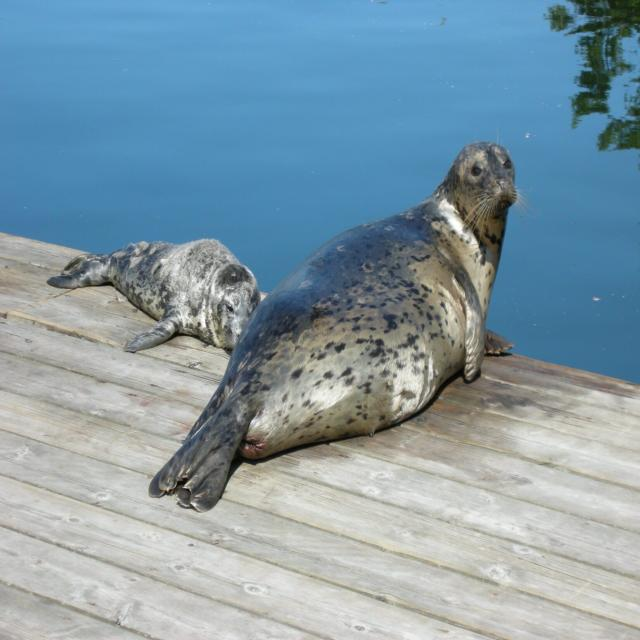WaterDog: (146, 134, 522, 516), (46, 232, 264, 356)
